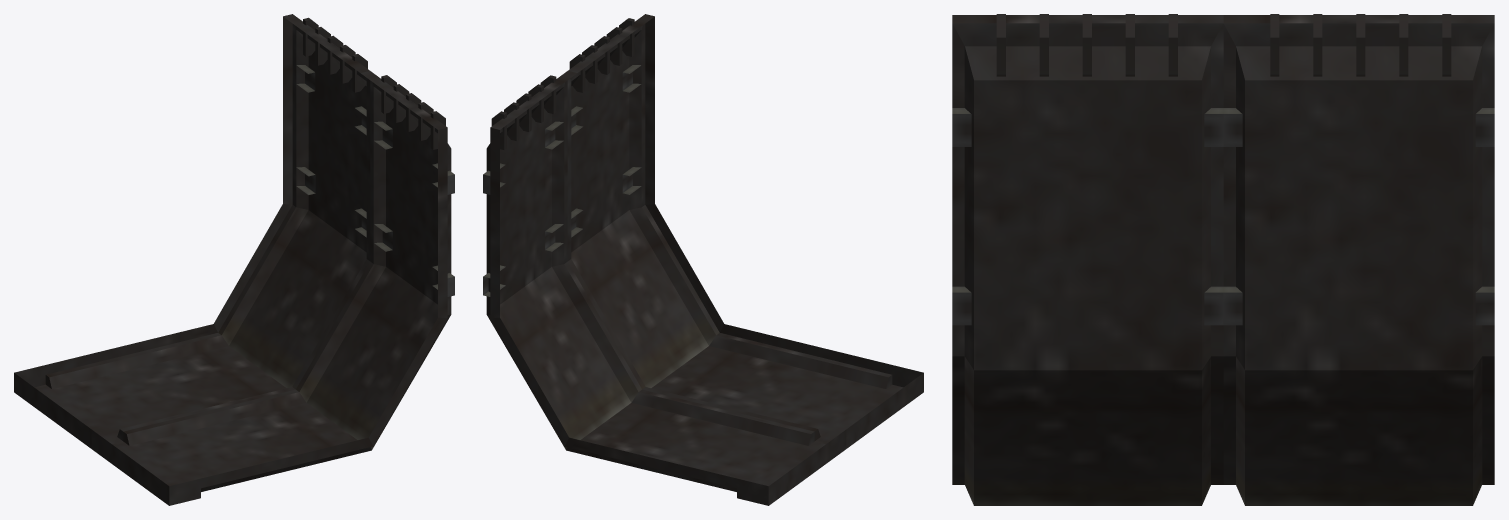
Rendered from Wall_external_1.FBX.
3 views of the same model, side by side, from view 1: azimuth 30°, elevation 25°; view 2: azimuth 150°, elevation 25°; view 3: azimuth 270°, elevation 25° (orthographic). The views are drawn at different scales.
Visible parts, largest first — view 1: Wall_external_1; view 2: Wall_external_1; view 3: Wall_external_1.
Boxes of the visible parts, bbox=[...] form: Wall_external_1: bbox=[14, 14, 454, 505]; Wall_external_1: bbox=[483, 14, 923, 505]; Wall_external_1: bbox=[952, 14, 1494, 505].
Size of the model in its own units: 323 by 336 by 300.
